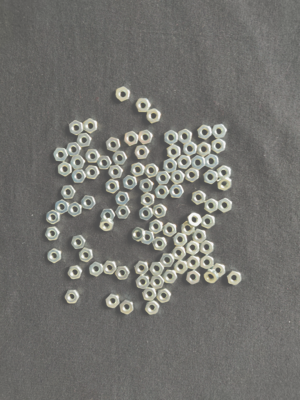nut: (146, 108, 162, 124), (116, 86, 131, 103), (69, 120, 84, 136), (83, 118, 98, 134), (212, 124, 228, 139), (197, 125, 213, 140), (178, 129, 193, 145), (70, 155, 86, 170), (130, 162, 146, 177), (203, 170, 219, 185), (61, 185, 77, 200), (191, 190, 207, 205), (204, 198, 219, 214), (47, 248, 62, 264), (115, 266, 131, 281), (77, 133, 92, 148), (106, 137, 121, 152), (124, 131, 139, 146), (164, 130, 179, 145), (67, 142, 82, 157), (211, 139, 226, 154), (85, 165, 100, 180), (177, 155, 192, 170), (170, 170, 185, 185), (185, 168, 200, 183), (123, 175, 138, 190), (105, 179, 120, 194), (115, 191, 130, 206), (46, 210, 61, 225), (139, 206, 154, 221), (181, 221, 196, 236), (192, 229, 207, 244), (173, 233, 188, 248), (105, 294, 120, 309), (134, 261, 149, 276), (200, 240, 215, 255), (227, 271, 242, 286), (211, 263, 226, 278), (204, 269, 219, 284), (186, 270, 201, 285), (157, 289, 172, 304), (145, 301, 160, 316), (134, 146, 150, 160), (53, 148, 69, 162), (112, 151, 128, 165), (85, 149, 101, 163), (71, 170, 87, 184), (108, 165, 124, 179), (192, 155, 206, 171), (169, 185, 185, 199), (68, 202, 82, 218), (55, 199, 69, 215), (45, 227, 61, 241), (202, 214, 216, 230), (163, 222, 177, 238), (152, 237, 168, 251), (71, 236, 87, 250), (136, 98, 151, 112), (139, 130, 153, 145), (167, 144, 181, 159), (183, 142, 198, 156), (197, 142, 211, 157), (97, 156, 112, 170), (58, 162, 72, 177), (144, 164, 159, 178), (163, 159, 178, 173), (205, 154, 219, 169), (156, 171, 171, 185), (217, 177, 232, 191), (139, 179, 154, 193), (155, 185, 170, 199), (99, 218, 114, 232), (81, 196, 96, 210), (141, 193, 155, 208), (153, 204, 167, 219), (219, 198, 233, 213), (187, 213, 202, 227), (149, 220, 164, 234), (132, 227, 146, 242), (79, 248, 93, 263), (68, 266, 83, 280), (65, 290, 80, 304), (89, 262, 103, 277), (103, 260, 117, 275), (120, 300, 134, 315), (186, 241, 200, 256), (150, 262, 165, 276), (200, 256, 215, 270), (187, 256, 201, 271), (174, 261, 189, 275), (163, 270, 178, 284), (150, 275, 165, 289), (142, 287, 157, 301), (115, 206, 131, 219), (171, 247, 187, 260), (136, 276, 150, 290), (217, 165, 232, 178), (160, 254, 175, 267), (142, 231, 155, 245), (100, 209, 116, 220)
